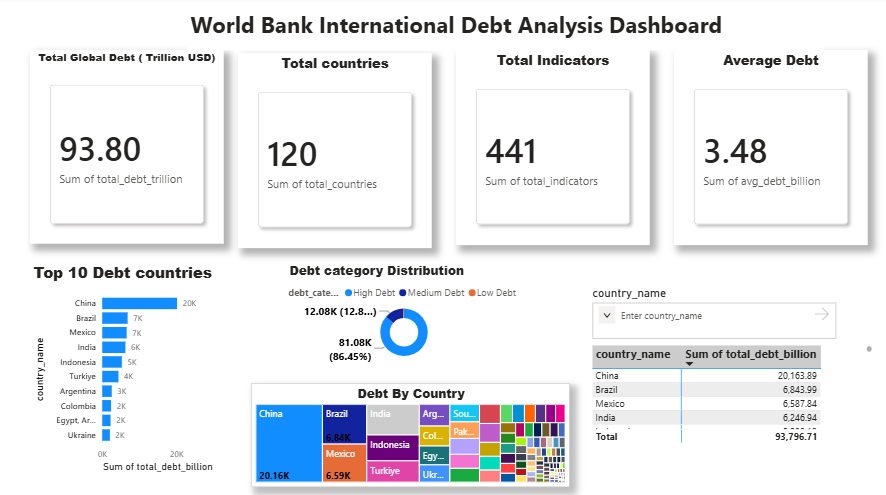

This screenshot's page, from the dashboard's own definition file:
{"tool":"powerbi","page":{"name":"Overview","canvas":[1280,720],"ordinal":0},"visuals":[{"type":"cardVisual","title":"Total Global Debt ( Trillion USD)","fields":{"Data":["Sum(kpi_summary.total_debt_trillion)"]},"box":[44.6,76.3,279.4,279.4],"z":0},{"type":"cardVisual","title":"Total  countries","fields":{"Data":["Sum(kpi_summary.total_countries)"]},"box":[344.2,80.6,279.4,280.8],"z":1},{"type":"cardVisual","title":"Total Indicators","fields":{"Data":["Sum(kpi_summary.total_indicators)"]},"box":[658.6,76.3,279.4,280.8],"z":2},{"type":"cardVisual","title":"Average Debt","fields":{"Data":["Sum(kpi_summary.avg_debt_billion)"]},"box":[972,76.3,279.4,280.8],"z":3},{"type":"clusteredBarChart","title":"Top 10 Debt countries","fields":{"Category":["country_debt_summary.country_name"],"Y":["Sum(country_debt_summary.total_debt_billion)"]},"box":[44.6,381.6,279.4,308.2],"z":4},{"type":"donutChart","title":"Debt  category Distribution","fields":{"Category":["country_debt_summary.debt_category"],"Y":["Sum(country_debt_summary.total_debt_billion)"]},"box":[413.3,381.6,339.8,149.8],"z":5},{"type":"treemap","title":"Debt By Country","fields":{"Group":["country_debt_summary.country_name"],"Values":["Sum(country_debt_summary.total_debt_billion)"]},"box":[362.9,555.8,459.4,149.8],"z":6},{"type":"pivotTable","fields":{"Rows":["country_debt_summary.country_name"],"Values":["Sum(country_debt_summary.total_debt_billion)"]},"box":[849.6,496.8,413.3,149.8],"z":7},{"type":"textSlicer","fields":{"Values":["country_debt_summary.country_name"]},"box":[849.6,416.2,361.4,80.6],"z":8},{"type":"textbox","box":[270.7,11.5,917.3,64.8],"z":9}]}

Visuals, with their boxes in screenshot pixels (x1, y1, x2, y2), scaled from the page's 1280x720 canvas onto the 886x495 screenshot:
"Total Global Debt ( Trillion USD)" cardVisual: 31,52,224,245
"Total  countries" cardVisual: 238,55,432,248
"Total Indicators" cardVisual: 456,52,649,246
"Average Debt" cardVisual: 673,52,866,246
"Top 10 Debt countries" clusteredBarChart: 31,262,224,474
"Debt  category Distribution" donutChart: 286,262,521,365
"Debt By Country" treemap: 251,382,569,485
pivotTable - country_debt_summary.country_name x Sum(country_debt_summary.total_debt_billion): 588,342,874,445
textSlicer - country_debt_summary.country_name: 588,286,838,342
textbox: 187,8,822,52
